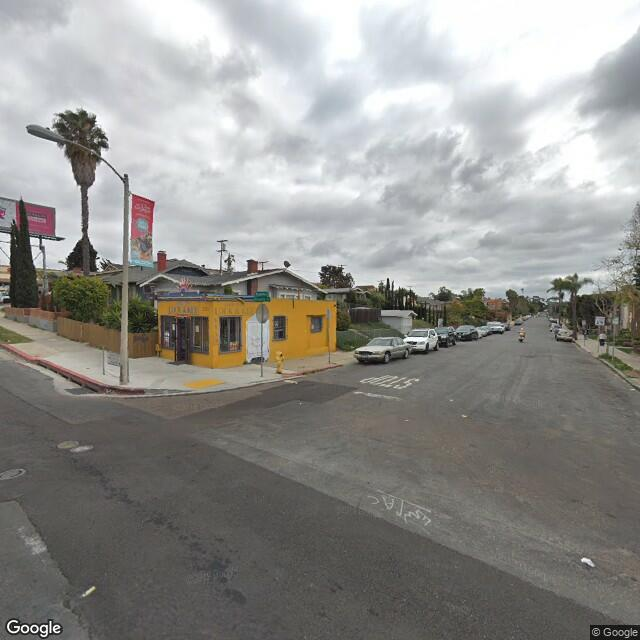light: (23, 122, 70, 145)
window: (220, 314, 246, 354), (269, 312, 290, 345)
